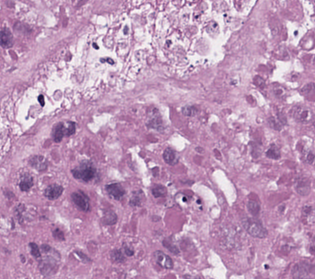nucleus: (242, 217, 267, 237), (72, 161, 95, 181), (53, 122, 74, 141), (153, 250, 173, 268), (72, 191, 89, 210), (105, 183, 124, 199), (44, 184, 62, 199), (163, 148, 177, 165), (30, 156, 46, 170), (292, 264, 309, 277), (151, 184, 166, 197), (129, 191, 142, 206), (163, 240, 178, 253), (110, 249, 124, 262), (247, 200, 259, 215), (266, 146, 279, 158), (29, 243, 40, 257), (182, 106, 196, 115), (123, 243, 133, 255), (54, 229, 63, 239), (306, 151, 313, 163), (38, 95, 43, 105)
